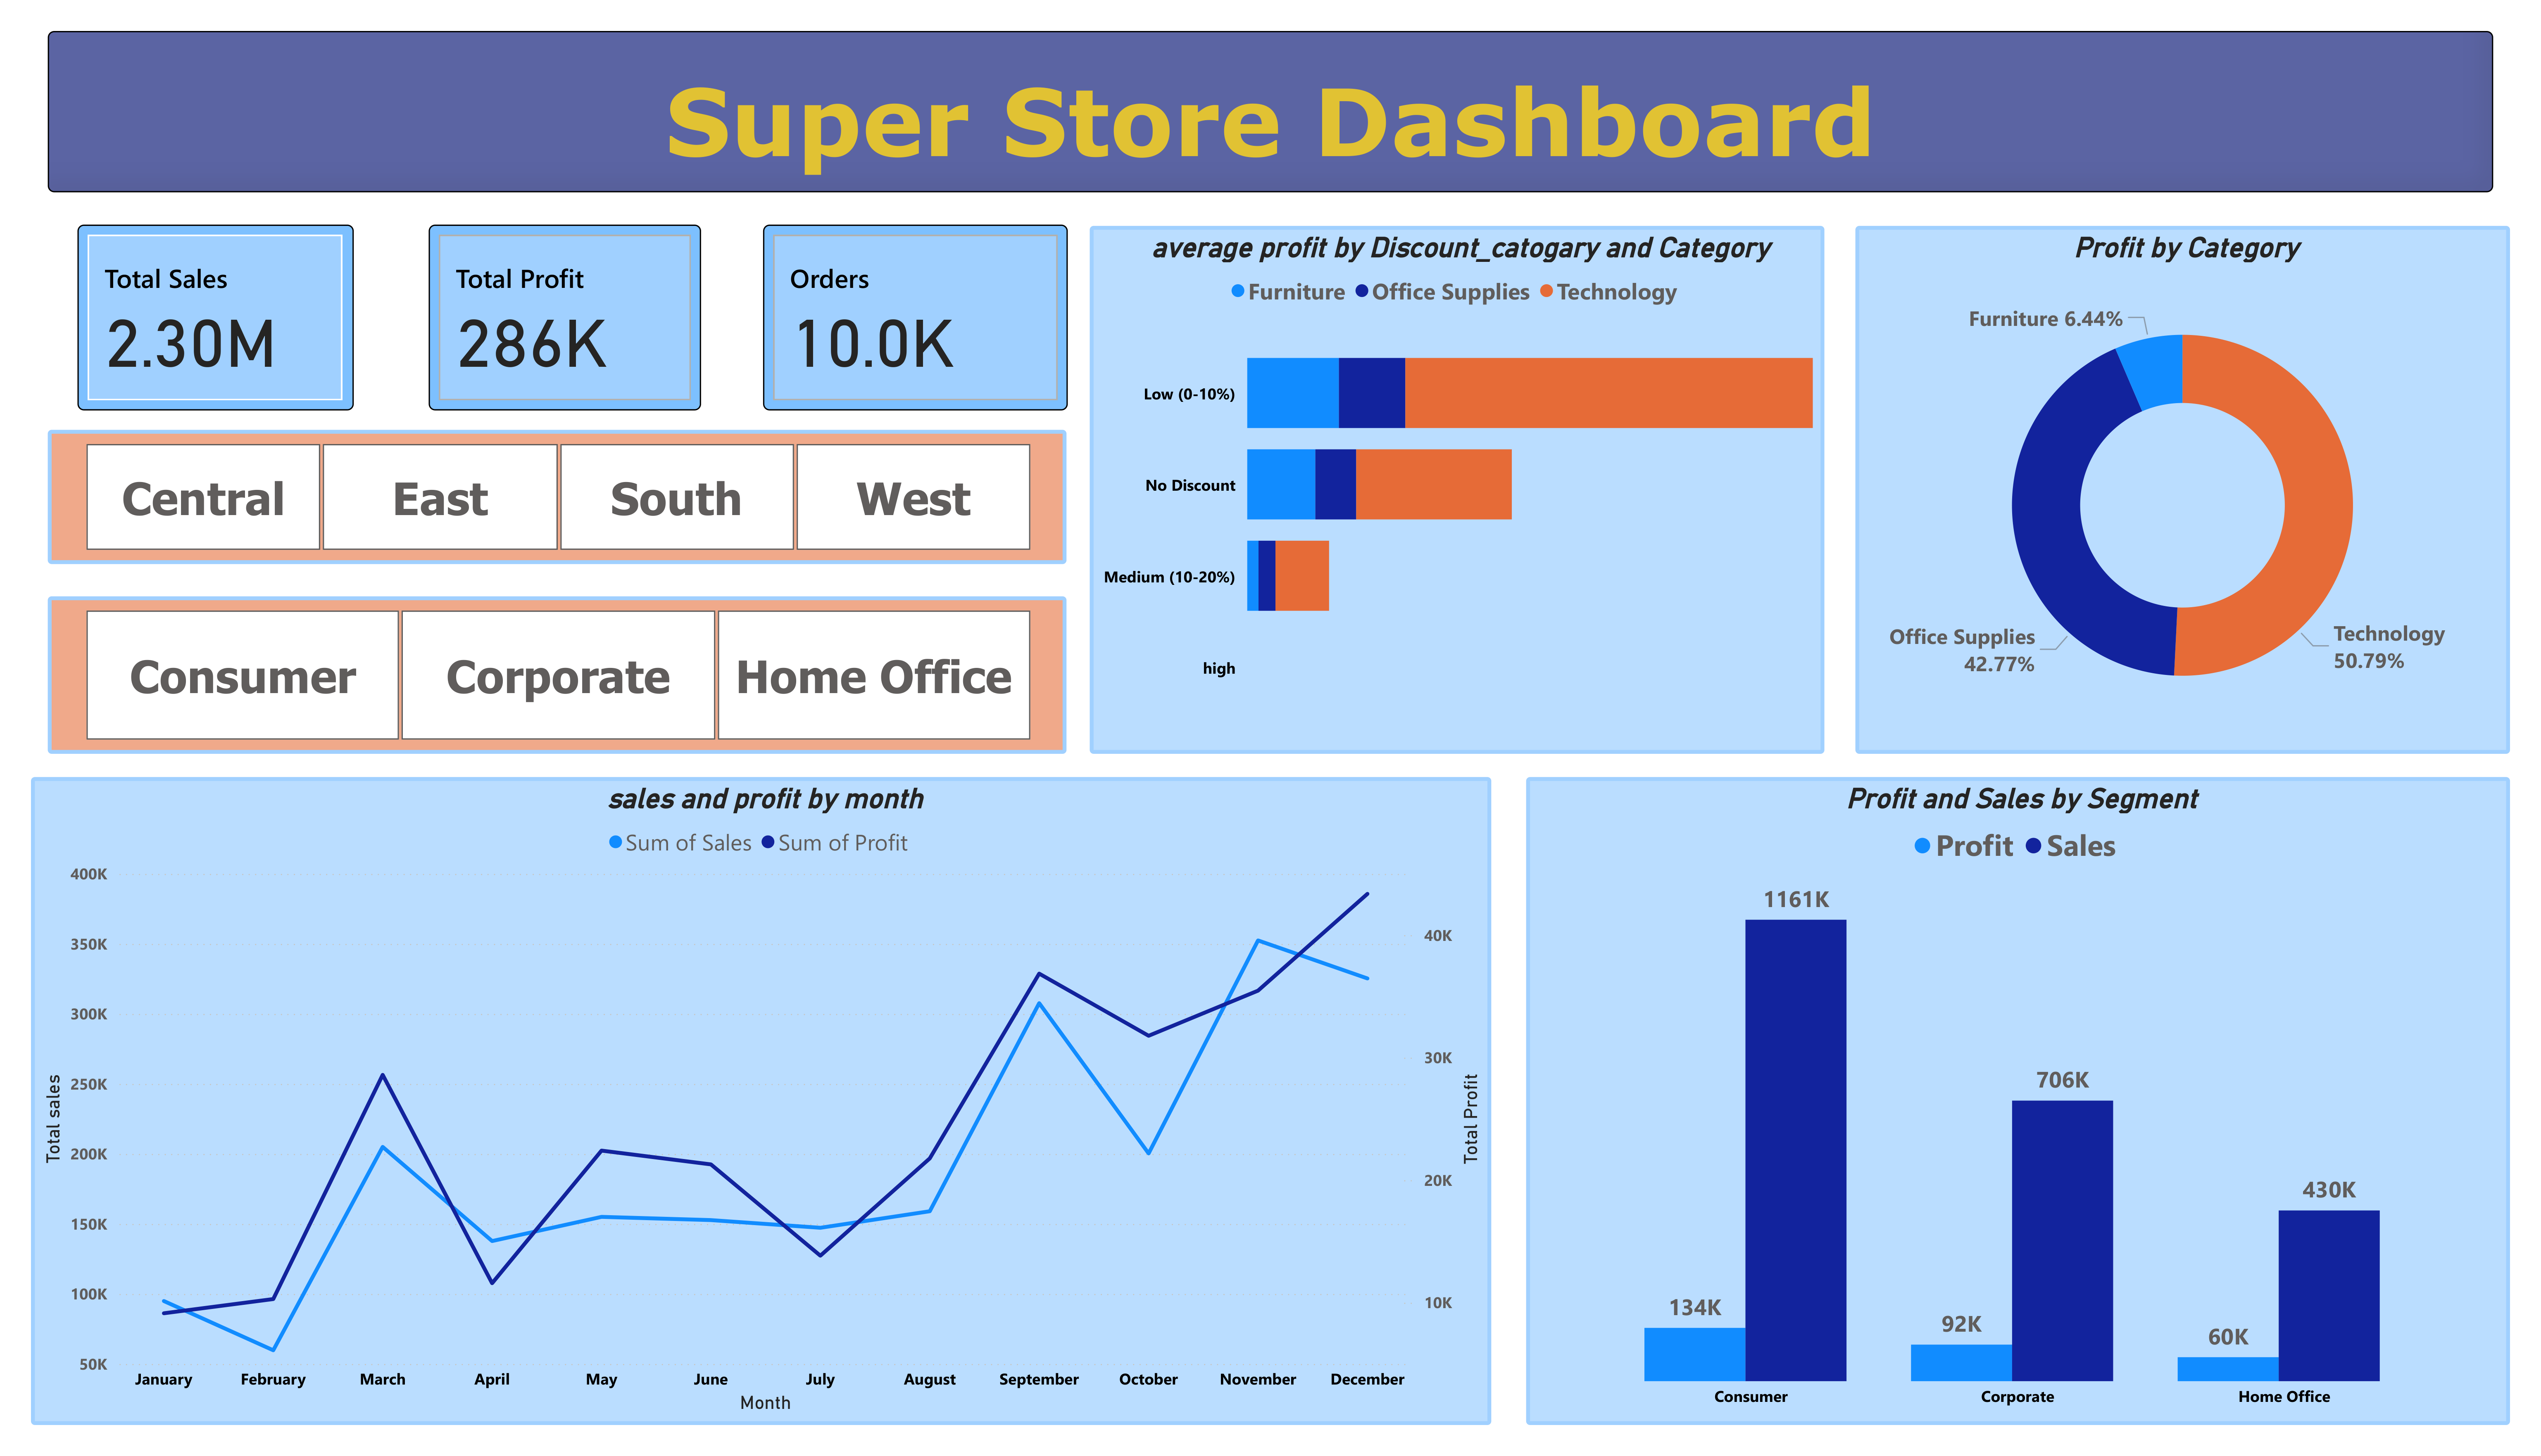

What the dashboard file says about the page in this screenshot:
{"tool":"powerbi","page":{"name":"Page 1","canvas":[1920,1080],"ordinal":0},"visuals":[{"type":"textbox","box":[12.8,0,1894.4,125],"z":0},{"type":"cardVisual","title":"Total Sales","fields":{"Data":["Sum(Sample - Superstore.Sales)"]},"box":[36.1,150,213.9,144.4],"z":1},{"type":"cardVisual","title":"Total Sales","fields":{"Data":["Sum(Sample - Superstore.Profit)"]},"box":[308.3,150,211.1,144.4],"z":2},{"type":"cardVisual","title":"Total Sales","fields":{"Data":["CountNonNull(Sample - Superstore.Order ID)"]},"box":[566.7,150,236.1,144.4],"z":3},{"type":"lineChart","title":"sales and profit by month","fields":{"Category":["Sample - Superstore.Order Date.Variation.Date Hierarchy.Month"],"Y":["Sum(Sample - Superstore.Sales)"],"Y2":["Sum(Sample - Superstore.Profit)"]},"box":[0,577.8,1131.1,502.2],"z":4},{"type":"clusteredColumnChart","fields":{"Category":["Sample - Superstore.Segment"],"Y":["Sum(Sample - Superstore.Profit)","Sum(Sample - Superstore.Sales)"]},"box":[1157.8,577.8,762.2,502.2],"z":5},{"type":"donutChart","title":"Profit by Category","fields":{"Category":["Sample - Superstore.Category"],"Y":["Sum(Sample - Superstore.Profit)"]},"box":[1413.3,151.1,506.7,408.9],"z":6},{"type":"barChart","title":"average profit by Discount_catogary and Category","fields":{"Category":["Sample - Superstore.Discount_catogary"],"Series":["Sample - Superstore.Category"],"Y":["Avg(Sample - Superstore.Profit)"]},"box":[820,151.1,568.9,408.9],"z":7},{"type":"slicer","fields":{"Values":["Sample - Superstore.Region"]},"box":[13.3,308.9,788.9,104.4],"z":8},{"type":"slicer","fields":{"Values":["Sample - Superstore.Segment"]},"box":[13.3,437.8,788.9,122.2],"z":9}]}

Visuals, with their boxes in screenshot pixels (x1, y1, x2, y2):
textbox: box(48, 31, 2493, 192)
"Total Sales" cardVisual: box(78, 225, 354, 411)
"Total Sales" cardVisual: box(429, 225, 702, 411)
"Total Sales" cardVisual: box(763, 225, 1068, 411)
"sales and profit by month" lineChart: box(31, 777, 1492, 1425)
clusteredColumnChart - Sample - Superstore.Segment x Sum(Sample - Superstore.Profit): box(1526, 777, 2510, 1425)
"Profit by Category" donutChart: box(1856, 226, 2510, 754)
"average profit by Discount_catogary and Category" barChart: box(1090, 226, 1824, 754)
slicer - Sample - Superstore.Region: box(48, 430, 1067, 565)
slicer - Sample - Superstore.Segment: box(48, 596, 1067, 754)
